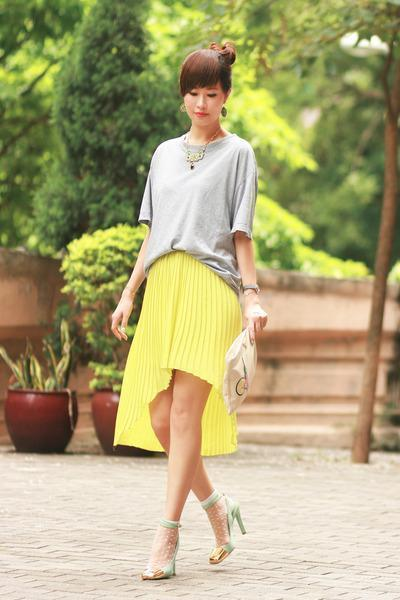bag: (218, 332, 255, 416)
shirt: (135, 127, 259, 298)
shoe: (142, 482, 245, 580)
skirt: (113, 254, 247, 458)
